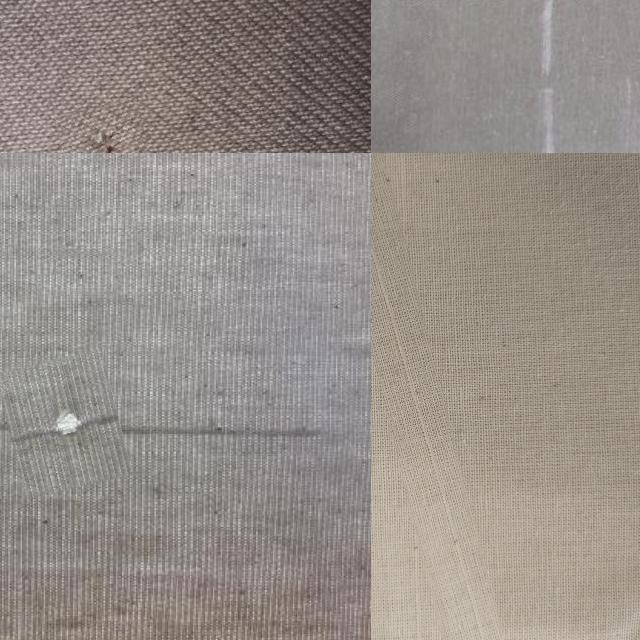other: (0, 354, 124, 494), (58, 101, 151, 153)
stains: (371, 153, 476, 640), (549, 0, 640, 153)
